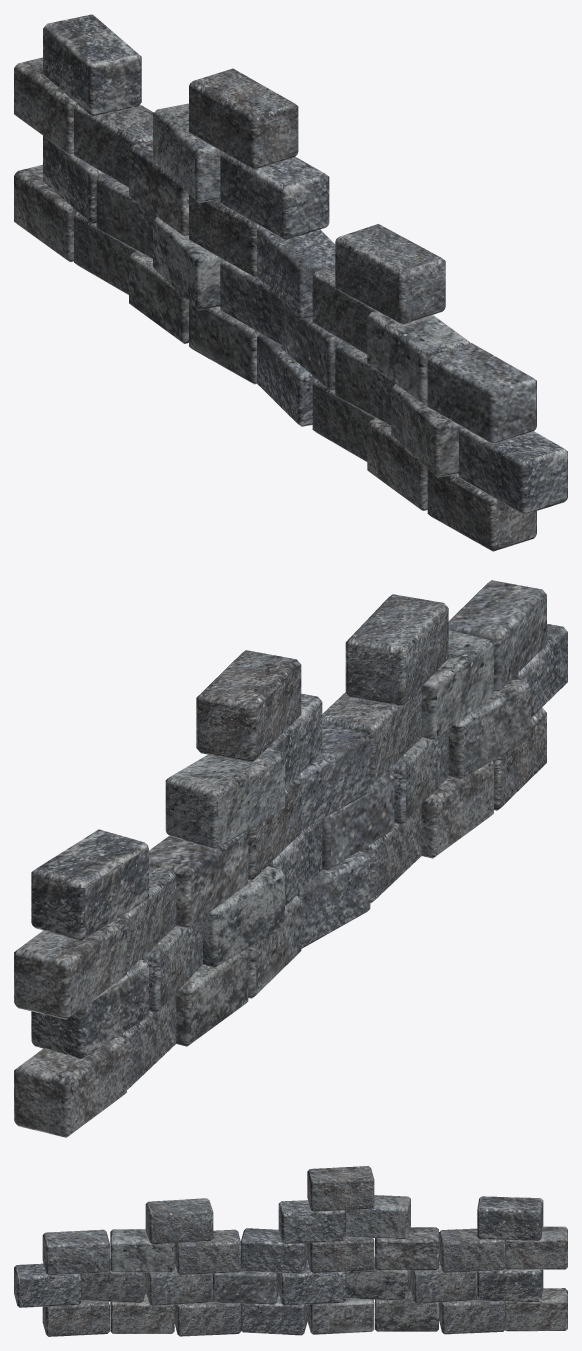
File: StoneWallA_B.fbx
3 views of the same model, one above another, from view 1: azimuth 30°, elevation 25°; view 2: azimuth 150°, elevation 25°; view 3: azimuth 270°, elevation 25° (orthographic). The views are drawn at different scales.
Visible parts, largest first — view 1: StoneWallA_B; view 2: StoneWallA_B; view 3: StoneWallA_B.
Boxes of the visible parts, x1,y1,x2,y2 form: StoneWallA_B: (14,14,567,551); StoneWallA_B: (14,580,567,1137); StoneWallA_B: (14,1166,567,1336).
Bounding box in the file's own units: 63.04 × 190 × 621.
